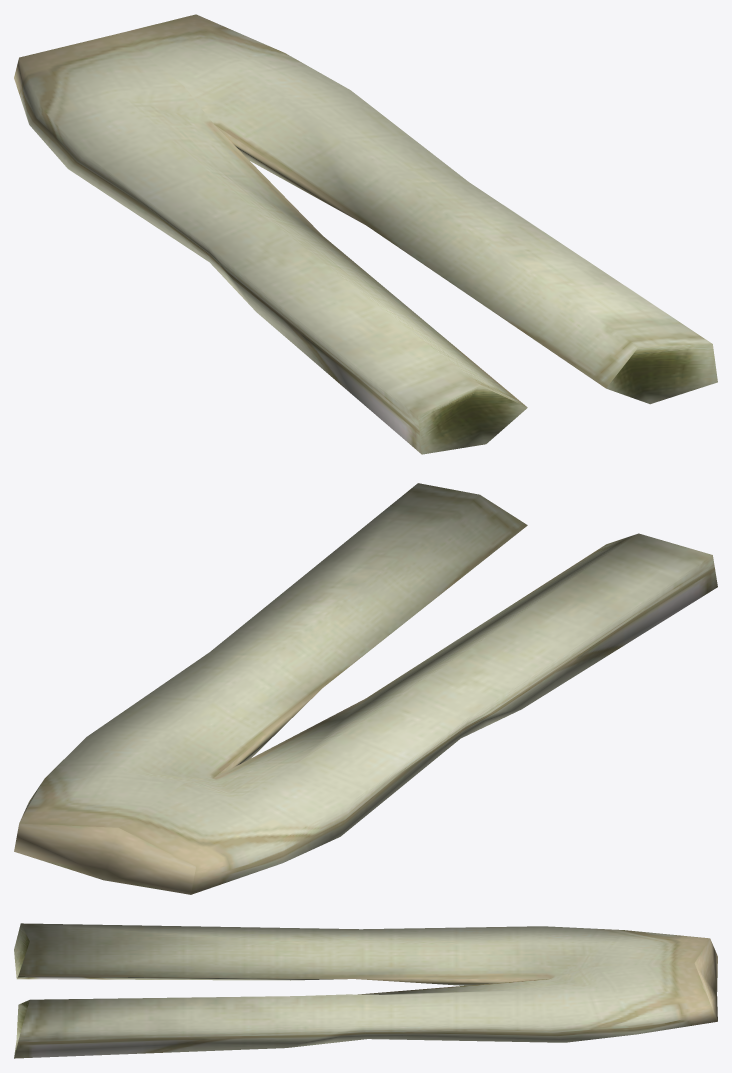
Rendered from f_Legs4.glb.
3 renders of one model, top to bottom at view 1: azimuth 30°, elevation 25°; view 2: azimuth 150°, elevation 25°; view 3: azimuth 270°, elevation 25°, orthographic. The views are drawn at different scales.
Parts seen in each view (by area): view 1: Legs4; view 2: Legs4; view 3: Legs4.
Part boxes in pixels (bbox=[...]): Legs4: bbox=[14, 14, 717, 454]; Legs4: bbox=[14, 483, 717, 894]; Legs4: bbox=[14, 923, 717, 1058].
Size of the model in its own units: 21.31 by 4.2 by 58.26.
1 material, 1 textured.
